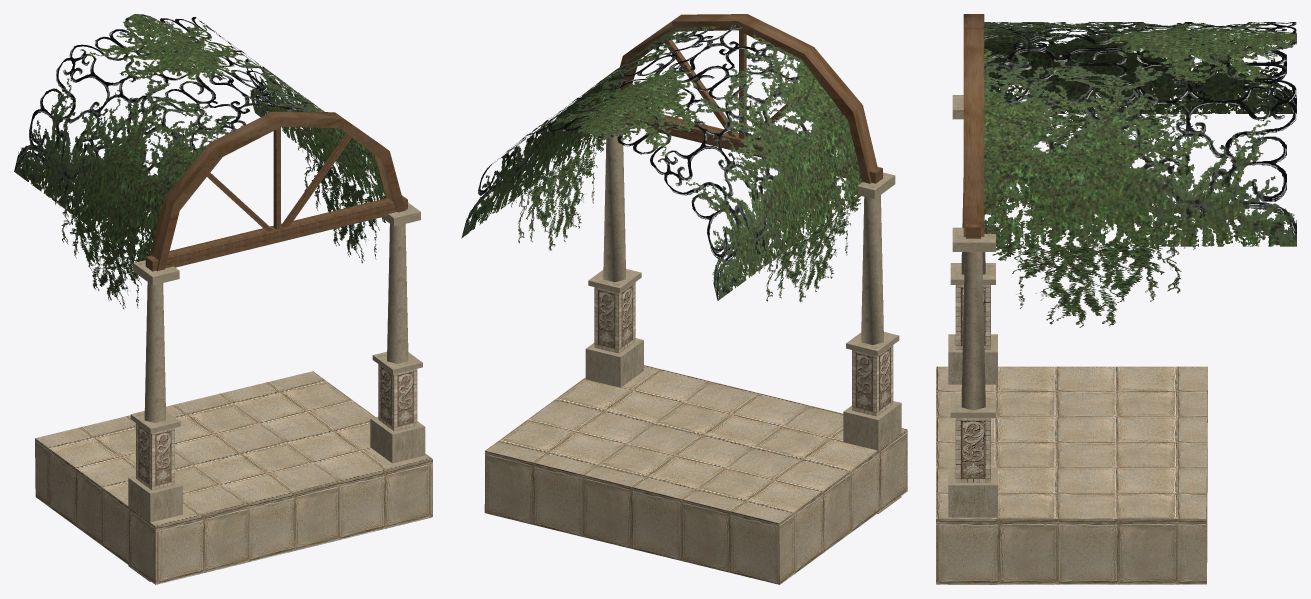
Rendered from thm_nboo_imprv_arbor_short_s01_l0.fbx.
3 renders of one model, left to right at view 1: azimuth 30°, elevation 25°; view 2: azimuth 150°, elevation 25°; view 3: azimuth 270°, elevation 25°, orthographic. The views are drawn at different scales.
Parts seen in each view (by area): view 1: mesh_node; view 2: mesh_node; view 3: mesh_node.
Boxes of the visible parts, x1=… form: mesh_node: x1=14, y1=14, x2=432, y2=584; mesh_node: x1=461, y1=14, x2=907, y2=584; mesh_node: x1=936, y1=14, x2=1296, y2=584.
Bounding box in the file's own units: 4 × 5.86 × 4.
Materials: 6 (6 with a texture image).
